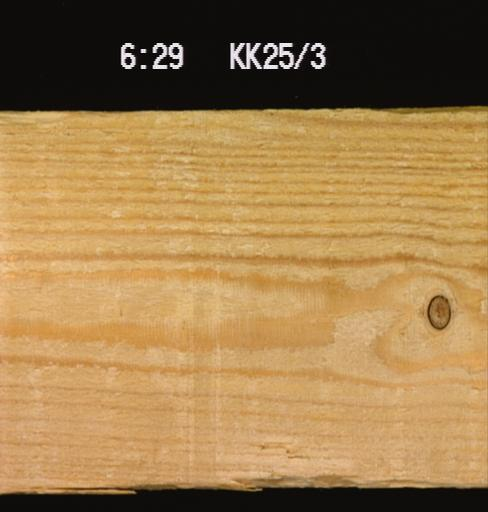dry_knot: (424, 292, 452, 330)
wave: (224, 462, 449, 491)
